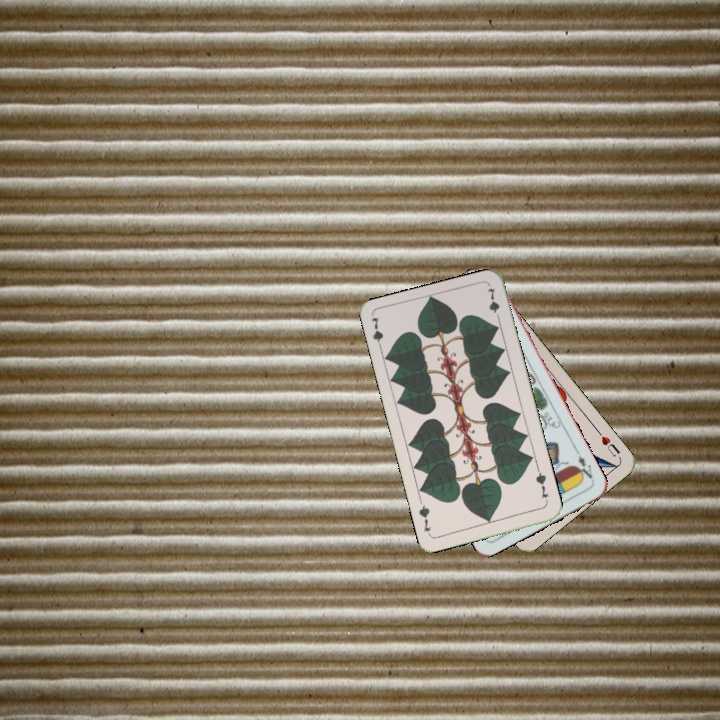EA: (572, 447, 597, 484)
G7: (367, 313, 386, 354), (532, 466, 551, 506)
HU: (593, 427, 623, 460)
